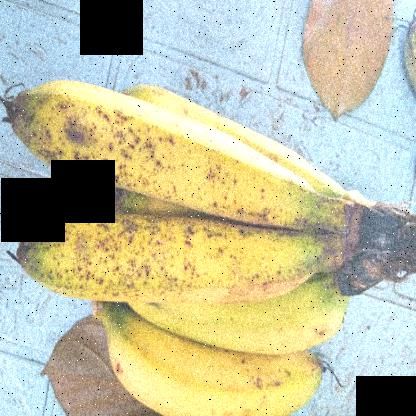ripe: (17, 71, 313, 219), (12, 192, 314, 320), (98, 325, 334, 415)
